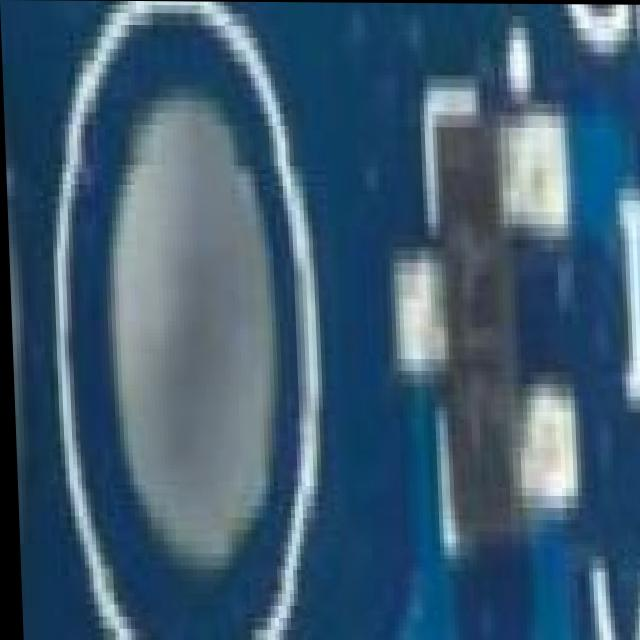buzzer: (0, 0, 31, 640)
transistor: (419, 110, 558, 565)
